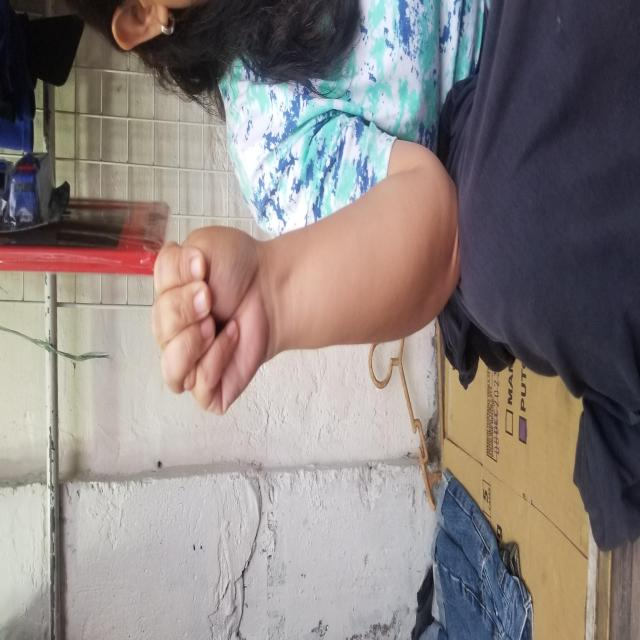M: (120, 173, 316, 447)
